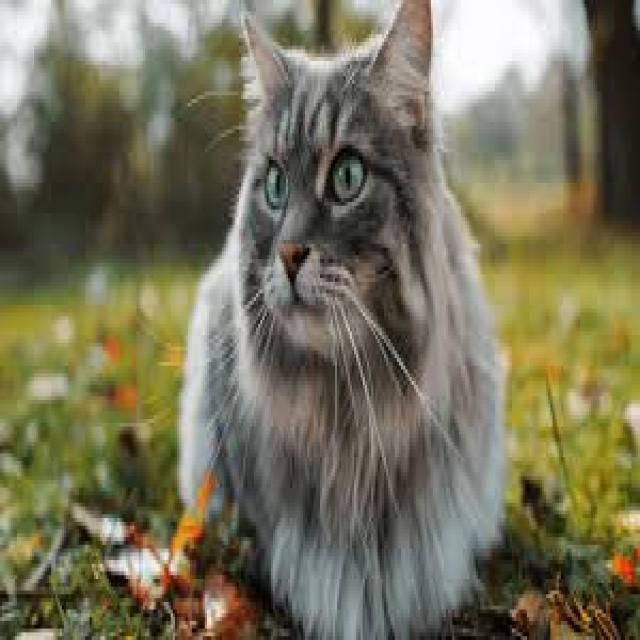Cat: (212, 20, 468, 384)
